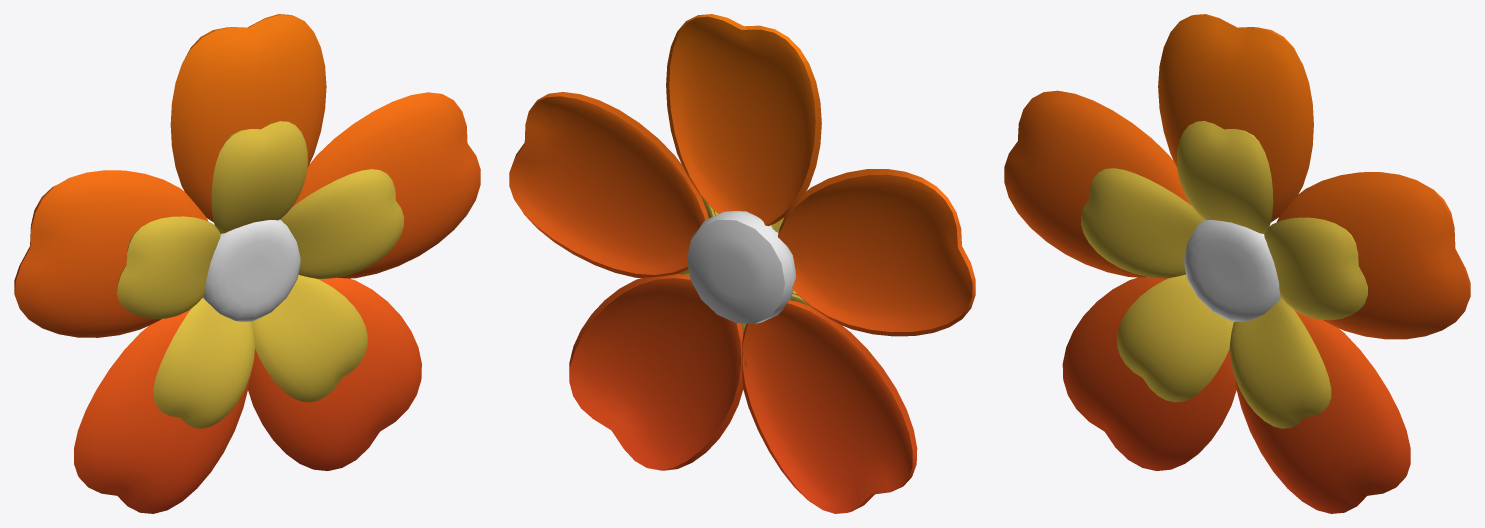
Rendered from Rosette.gltf.
The picture shows the model from 3 angles, left to right: view 1: azimuth 30°, elevation 25°; view 2: azimuth 150°, elevation 25°; view 3: azimuth 330°, elevation 25°; orthographic projection.
Parts seen in each view (by area): view 1: Cube.172, Cube.173, Circle.2029; view 2: Cube.172, Circle.2029; view 3: Cube.172, Cube.173, Circle.2029.
Part boxes in pixels (<box>): Cube.172: <box>14,14,480,513</box>; Cube.173: <box>116,121,403,428</box>; Circle.2029: <box>203,219,300,321</box>; Cube.172: <box>509,14,975,513</box>; Circle.2029: <box>687,211,795,323</box>; Cube.172: <box>1004,14,1470,513</box>; Cube.173: <box>1081,121,1367,428</box>; Circle.2029: <box>1184,219,1281,321</box>.
Bounding box in the file's own units: 1.94 × 1.86 × 0.2192.
3 materials, 1 textured.
